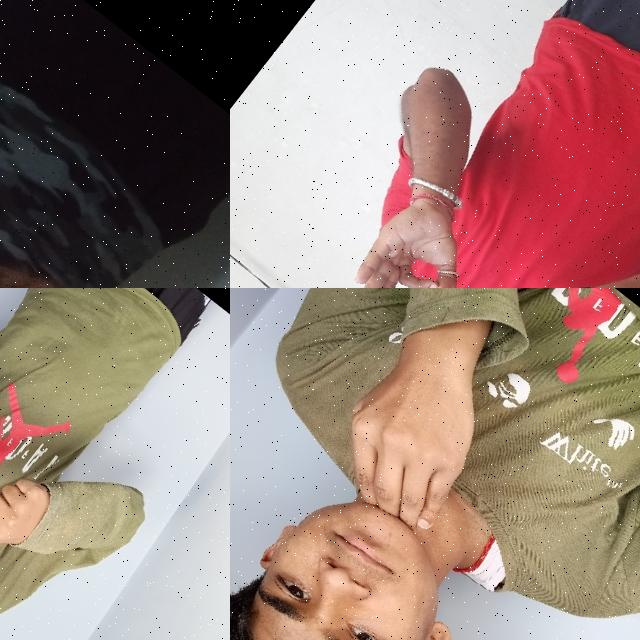Chin Flick: (230, 323, 604, 640)
Corna: (0, 208, 116, 288)
Five Fathers: (0, 388, 64, 577)
Okay: (332, 176, 495, 288)
